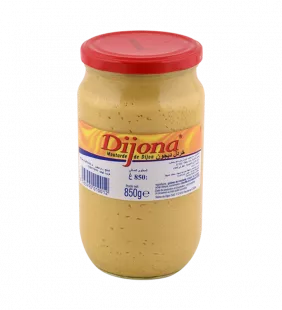DIJONA: (68, 20, 213, 291)
